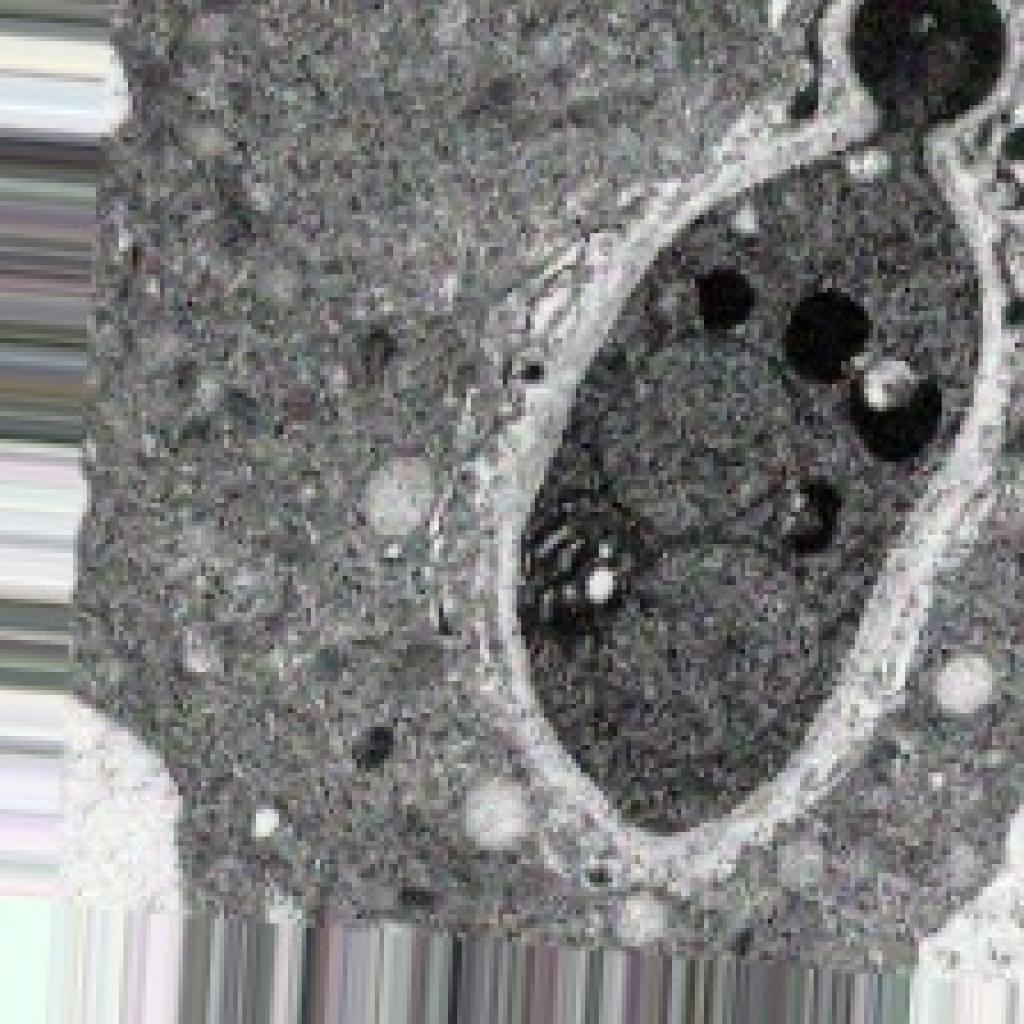Rodbacteria: (59, 0, 1019, 1019)
